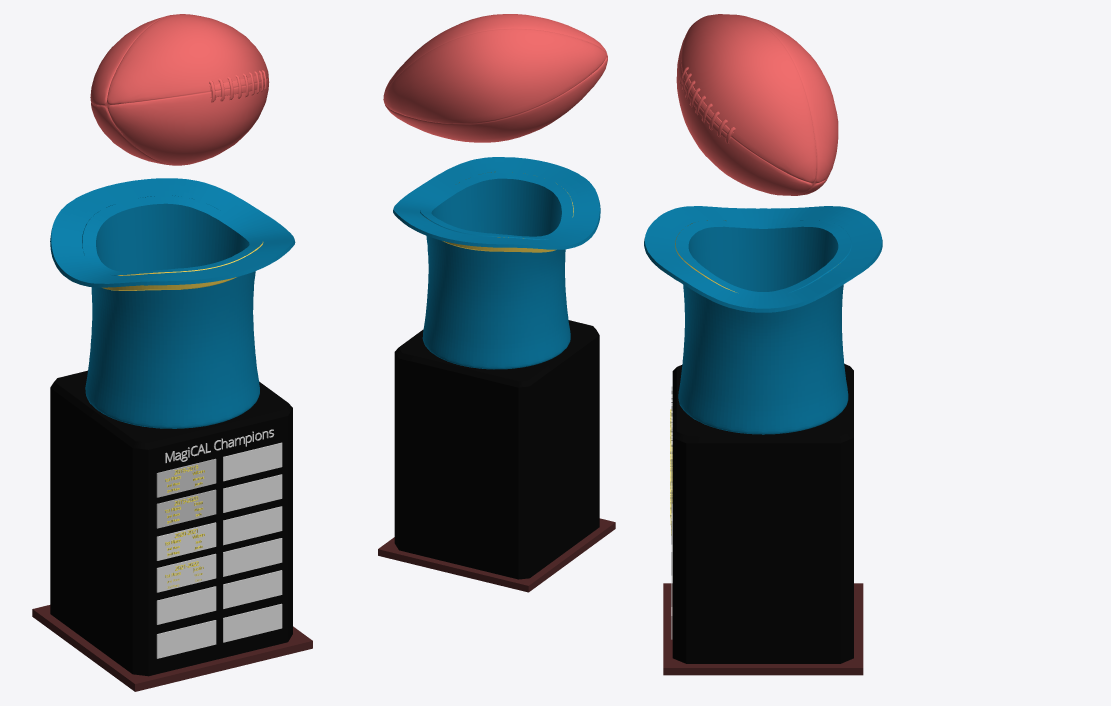
Rendered from Trophy8.glb.
3 renders of one model, left to right at view 1: azimuth 30°, elevation 25°; view 2: azimuth 150°, elevation 25°; view 3: azimuth 270°, elevation 25°, orthographic. The views are drawn at different scales.
Parts seen in each view (by area): view 1: Buffer_Layer, Box_1_-_baked, football, Box, Box_6, Box_5, Box_10, Box_8, Box_7, Box_9, Box_3, Box_11 (+5 smaller); view 2: Box_1_-_baked, Buffer_Layer, football, Box, 179_Buffer_Layer; view 3: Box_1_-_baked, Buffer_Layer, football, Box.
Boxes of the visible parts, left/top/right/bottom form: Buffer_Layer: left=50, top=178, right=295, bottom=428; Box_1_-_baked: left=50, top=370, right=292, bottom=676; football: left=90, top=14, right=269, bottom=165; Box: left=32, top=605, right=312, bottom=691; Box_6: left=156, top=620, right=216, bottom=658; Box_5: left=156, top=586, right=216, bottom=624; Box_10: left=223, top=506, right=282, bottom=545; Box_8: left=223, top=570, right=282, bottom=608; Box_7: left=223, top=603, right=282, bottom=642; Box_9: left=223, top=538, right=282, bottom=576; Box_3: left=156, top=553, right=216, bottom=592; Box_11: left=223, top=474, right=282, bottom=512; Box_1_-_baked: left=394, top=320, right=599, bottom=579; Buffer_Layer: left=393, top=157, right=600, bottom=369; football: left=383, top=14, right=607, bottom=142; Box: left=378, top=518, right=615, bottom=592; 179_Buffer_Layer: left=443, top=171, right=573, bottom=252; Box_1_-_baked: left=672, top=364, right=853, bottom=663; Buffer_Layer: left=644, top=206, right=882, bottom=434; football: left=676, top=14, right=838, bottom=195; Box: left=663, top=583, right=863, bottom=675.
Size of the model in its own units: 0.81 by 2.41 by 1.52.
